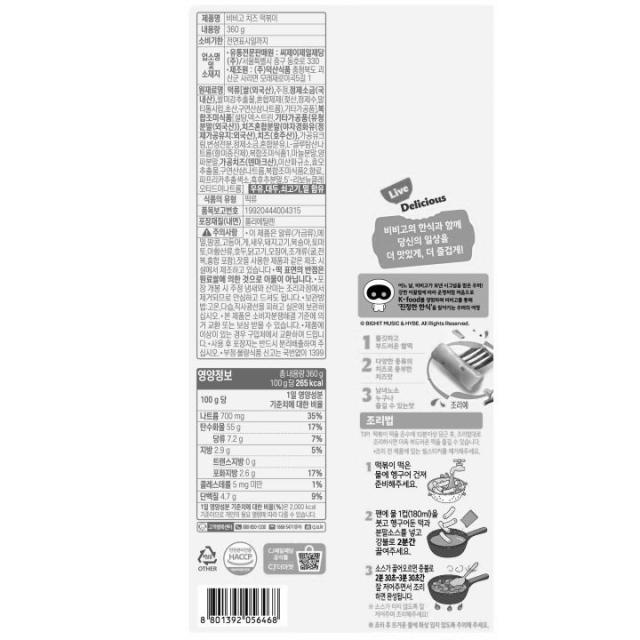Nutrition Label: (192, 366, 336, 542)
